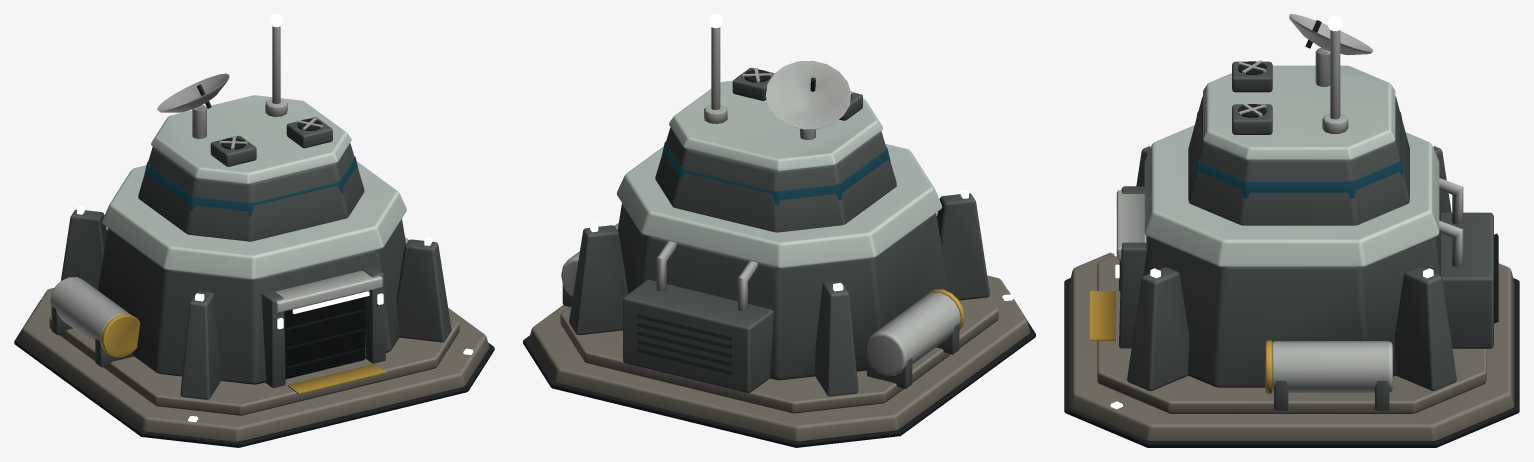
3 renders of one model, left to right at view 1: azimuth 30°, elevation 25°; view 2: azimuth 150°, elevation 25°; view 3: azimuth 270°, elevation 25°, orthographic. The views are drawn at different scales.
Visible parts, largest first — view 1: Hall, Team_panels, Foundation, Steel.008, Gear.006, Trim, Hazard, Windows, Dish, Lights.006; view 2: Hall, Foundation, Team_panels, Steel.008, Dish, Trim, Gear.006, Windows; view 3: Hall, Team_panels, Foundation, Steel.008, Trim, Windows, Hazard, Dish, Gear.006.
Part boxes in pixels (bbox=[...]): Hall: bbox=[51, 117, 451, 399]; Team_panels: bbox=[102, 95, 406, 279]; Foundation: bbox=[19, 288, 489, 441]; Steel.008: bbox=[50, 26, 408, 346]; Gear.006: bbox=[197, 84, 364, 378]; Trim: bbox=[14, 300, 494, 447]; Hazard: bbox=[101, 314, 385, 394]; Windows: bbox=[144, 156, 358, 217]; Dish: bbox=[157, 73, 229, 112]; Lights.006: bbox=[269, 14, 369, 313]; Hall: bbox=[562, 67, 989, 396]; Foundation: bbox=[528, 275, 1030, 441]; Team_panels: bbox=[616, 80, 942, 267]; Steel.008: bbox=[561, 27, 960, 375]; Dish: bbox=[765, 60, 851, 129]; Trim: bbox=[523, 290, 1035, 447]; Gear.006: bbox=[637, 69, 851, 374]; Windows: bbox=[661, 141, 890, 206]; Hall: bbox=[1119, 61, 1493, 410]; Team_panels: bbox=[1144, 65, 1439, 266]; Foundation: bbox=[1069, 252, 1514, 440]; Steel.008: bbox=[1116, 30, 1463, 392]; Trim: bbox=[1064, 278, 1519, 447]; Windows: bbox=[1195, 112, 1402, 198]; Hazard: bbox=[1090, 291, 1272, 393]; Dish: bbox=[1289, 14, 1372, 55]; Gear.006: bbox=[1238, 20, 1498, 323].
Size of the model in its own units: 6.52 by 5.44 by 6.32.
